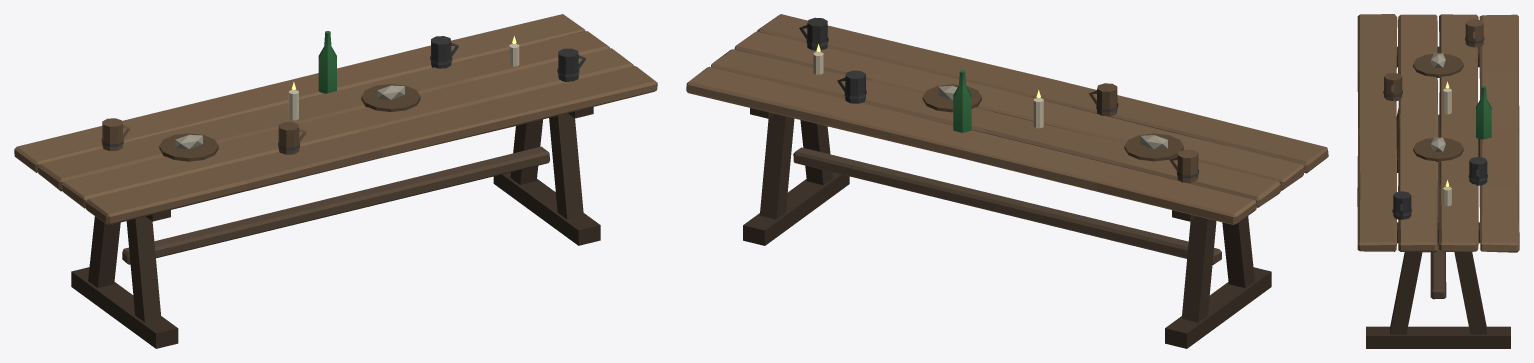
File: table_long.glb
3 renders of one model, left to right at view 1: azimuth 30°, elevation 25°; view 2: azimuth 150°, elevation 25°; view 3: azimuth 270°, elevation 25°, orthographic. The views are drawn at different scales.
Parts seen in each view (by area): view 1: table_long; view 2: table_long; view 3: table_long.
Part boxes in pixels (box(x1,y1,x2,y2)): table_long: box(14, 14, 657, 348); table_long: box(686, 14, 1328, 348); table_long: box(1357, 14, 1519, 348).
Size of what is drawn, in the model's own units: 3.01 by 1.08 by 0.8955.
